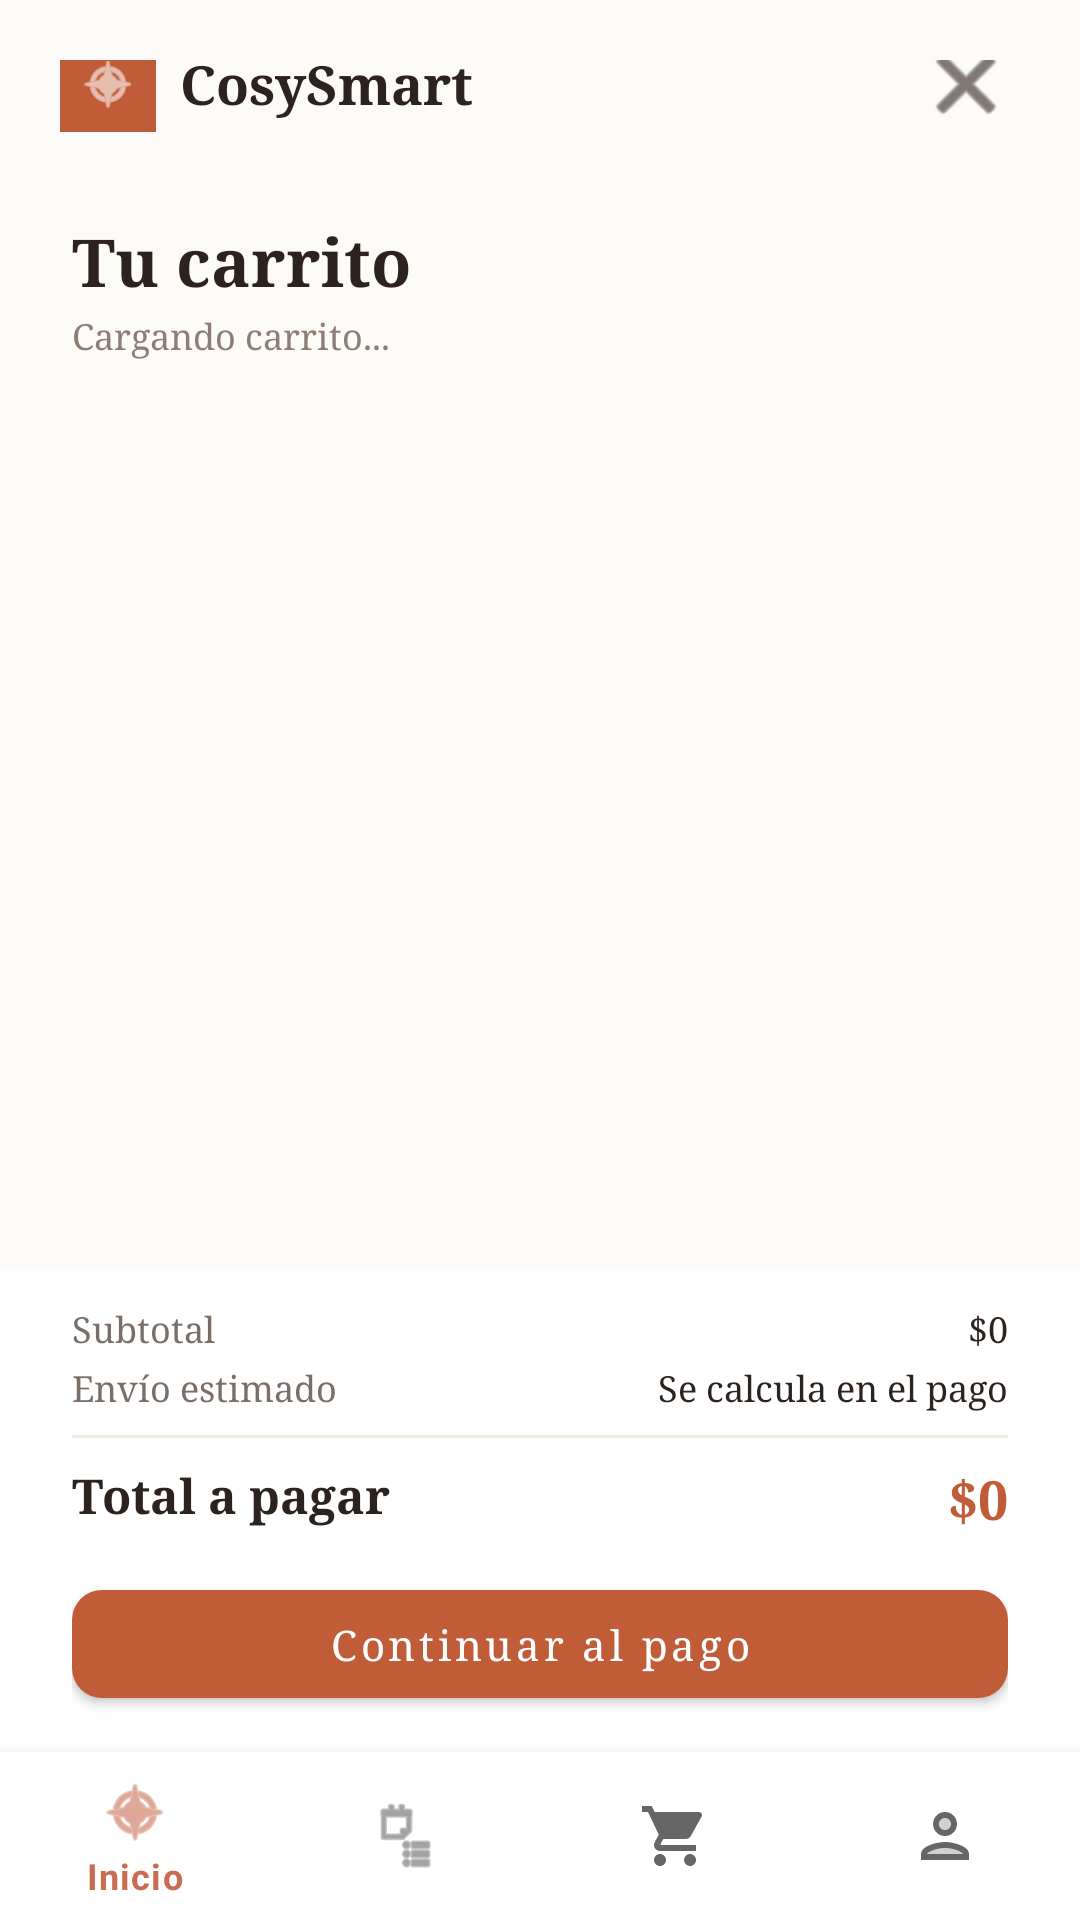

Where to tap for icons on this 1080 x 1920 app screen, as (x=x, y=y):
Cerrar: (x=966, y=87)
